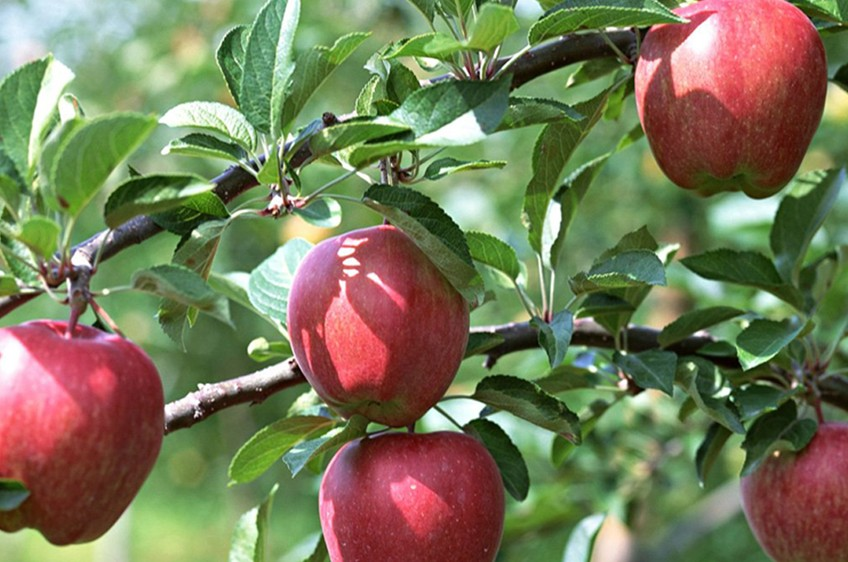apple: (1, 309, 172, 548), (633, 1, 826, 198), (287, 222, 469, 429), (314, 432, 508, 562), (738, 425, 848, 559)
